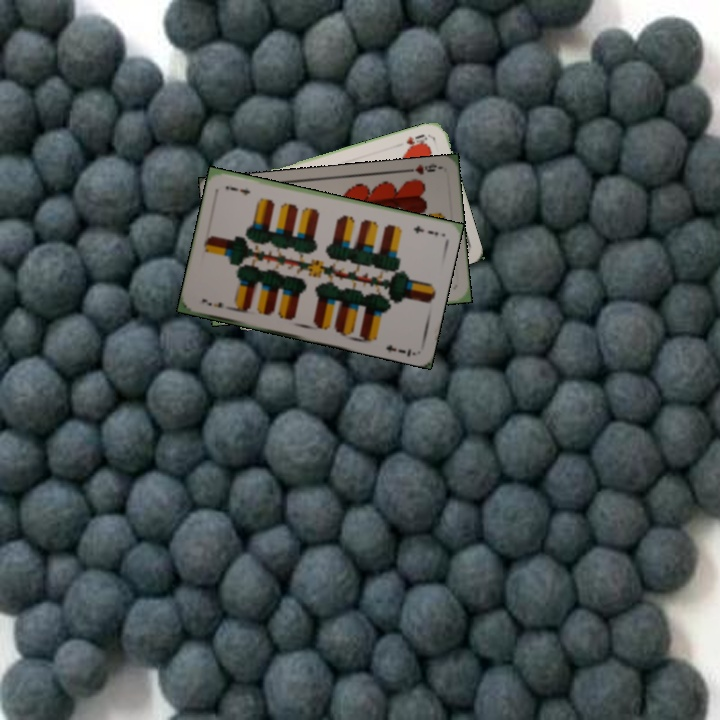E7: (198, 295, 235, 313), (409, 221, 441, 238)
H9: (402, 159, 443, 177)
HO: (402, 130, 432, 152)
